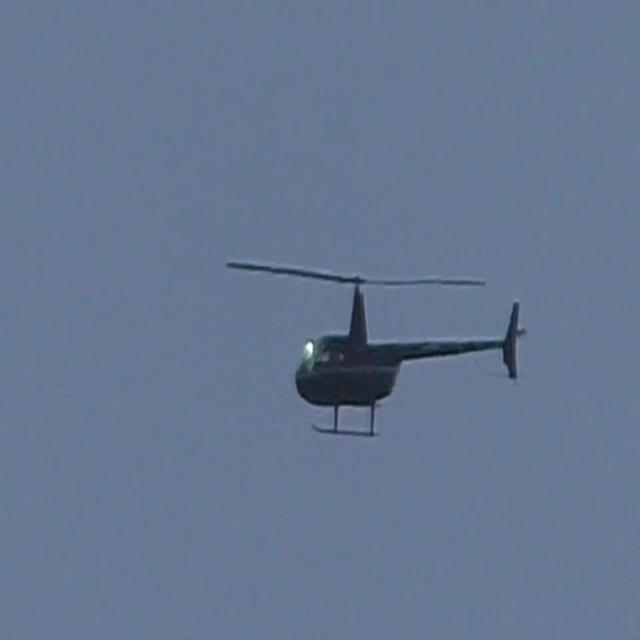CIV_HELO: (295, 273, 527, 442)
